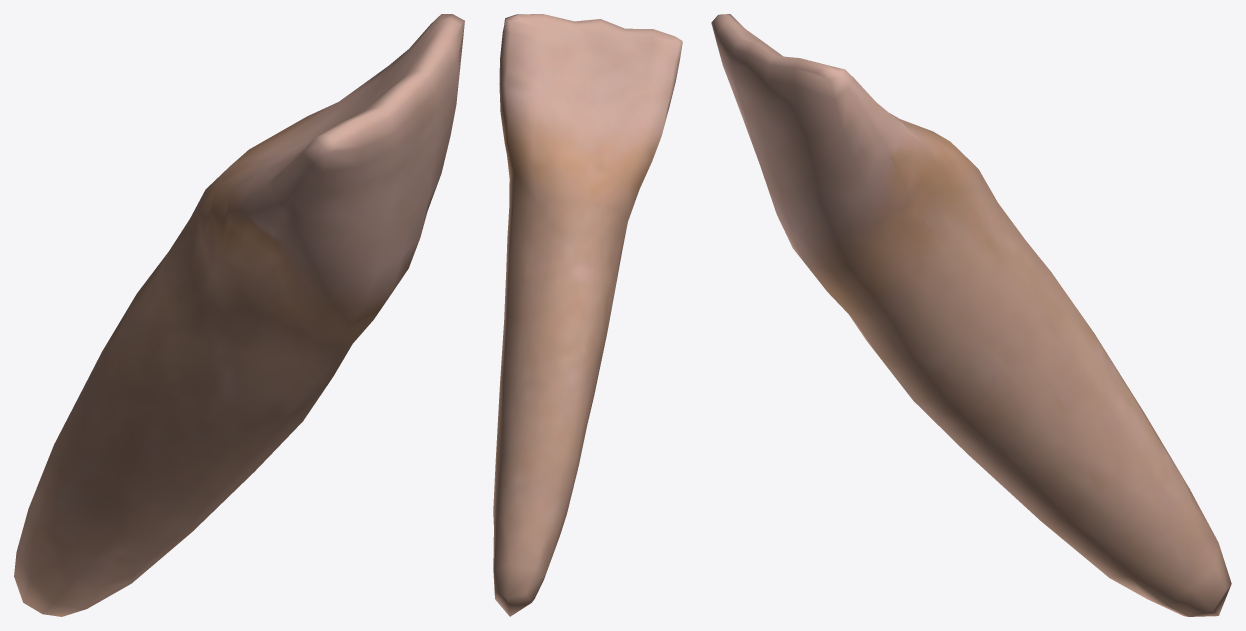
3 renders of one model, left to right at view 1: azimuth 30°, elevation 25°; view 2: azimuth 150°, elevation 25°; view 3: azimuth 270°, elevation 25°, orthographic. The views are drawn at different scales.
Visible parts, largest first — view 1: t_32; view 2: t_32; view 3: t_32.
Part boxes in pixels (<box>): t_32: <box>14,14,464,616</box>; t_32: <box>493,14,682,616</box>; t_32: <box>711,14,1231,616</box>.
Bounding box in the file's own units: 0.0663 × 0.1724 × 0.1269.
1 material, 1 textured.
